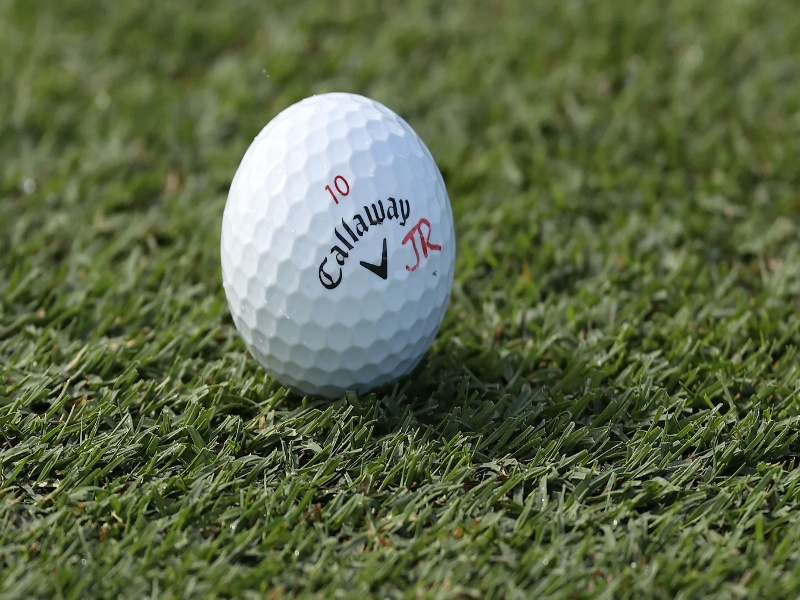golf_ball: (220, 92, 455, 400)
